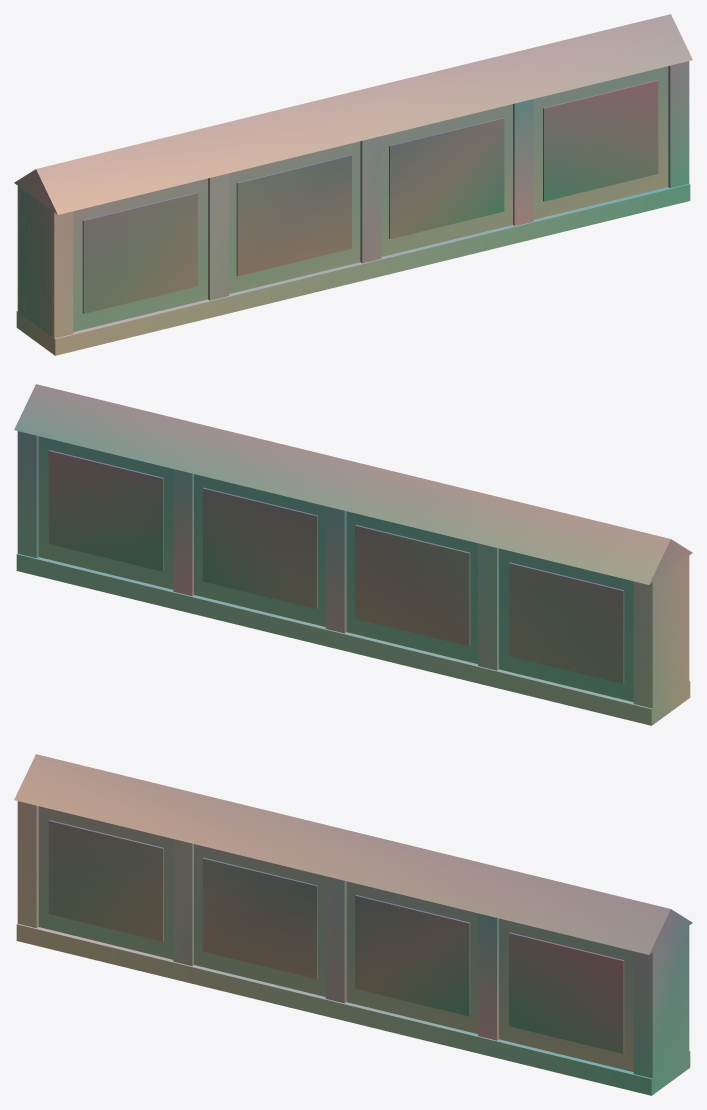
The model's file is wall_low_4m.glb.
The picture shows the model from 3 angles, top to bottom: view 1: azimuth 30°, elevation 25°; view 2: azimuth 150°, elevation 25°; view 3: azimuth 330°, elevation 25°; orthographic projection.
Parts seen in each view (by area): view 1: wall_low_coping, wall_low_panels, wall_low_4m; view 2: wall_low_coping, wall_low_panels, wall_low_4m; view 3: wall_low_coping, wall_low_panels, wall_low_4m.
Part boxes in pixels (left/top/right/bottom): wall_low_coping: left=14, top=14, right=692, bottom=355; wall_low_panels: left=82, top=80, right=658, bottom=313; wall_low_4m: left=19, top=66, right=668, bottom=336; wall_low_coping: left=14, top=384, right=692, bottom=725; wall_low_panels: left=48, top=450, right=624, bottom=683; wall_low_4m: left=38, top=436, right=633, bottom=701; wall_low_coping: left=14, top=754, right=692, bottom=1095; wall_low_panels: left=48, top=820, right=624, bottom=1053; wall_low_4m: left=38, top=806, right=633, bottom=1071.
Size of the model in its own units: 4 by 1.04 by 0.48.
